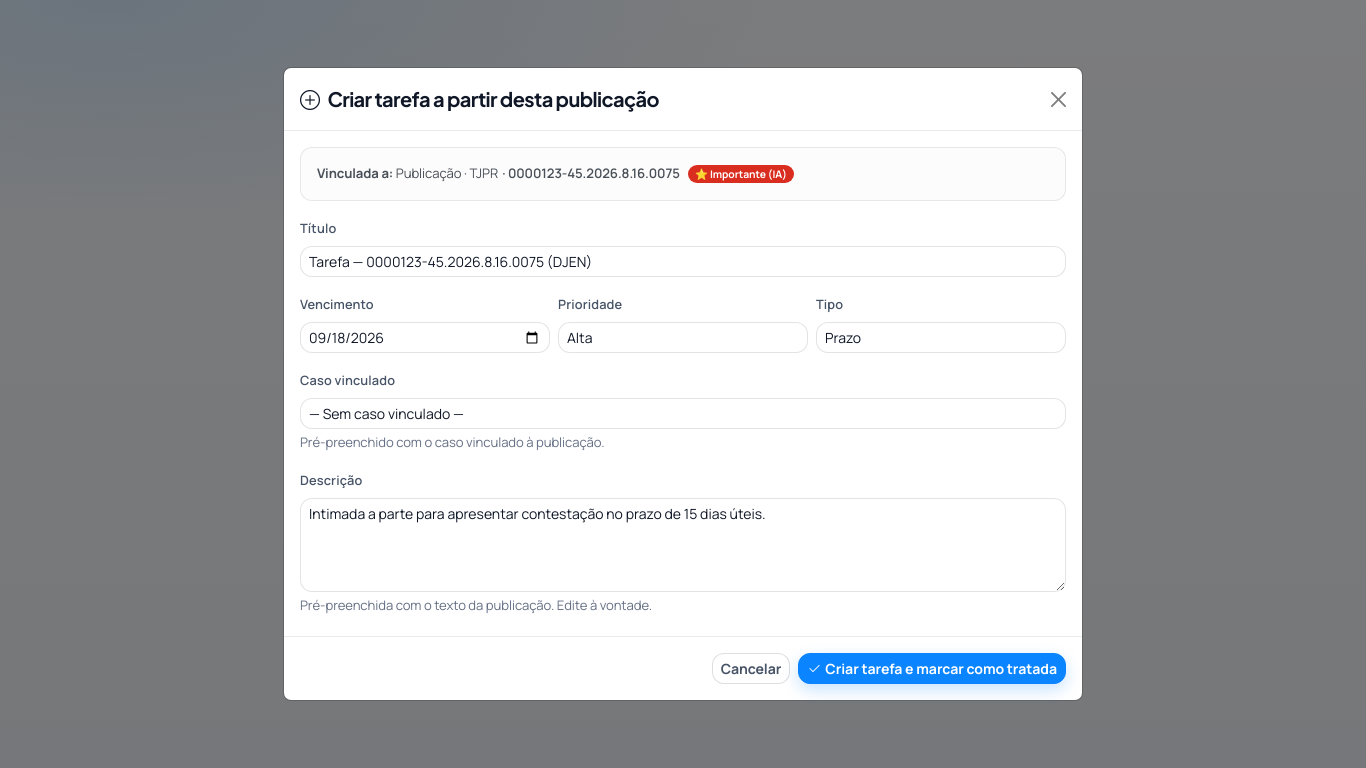
Test: ModalNovaTarefaInline › NAO submete quando titulo esta vazio
Clear the field with test id "tarefa-inline-titulo" at (683,261), box [300,246,1066,277]
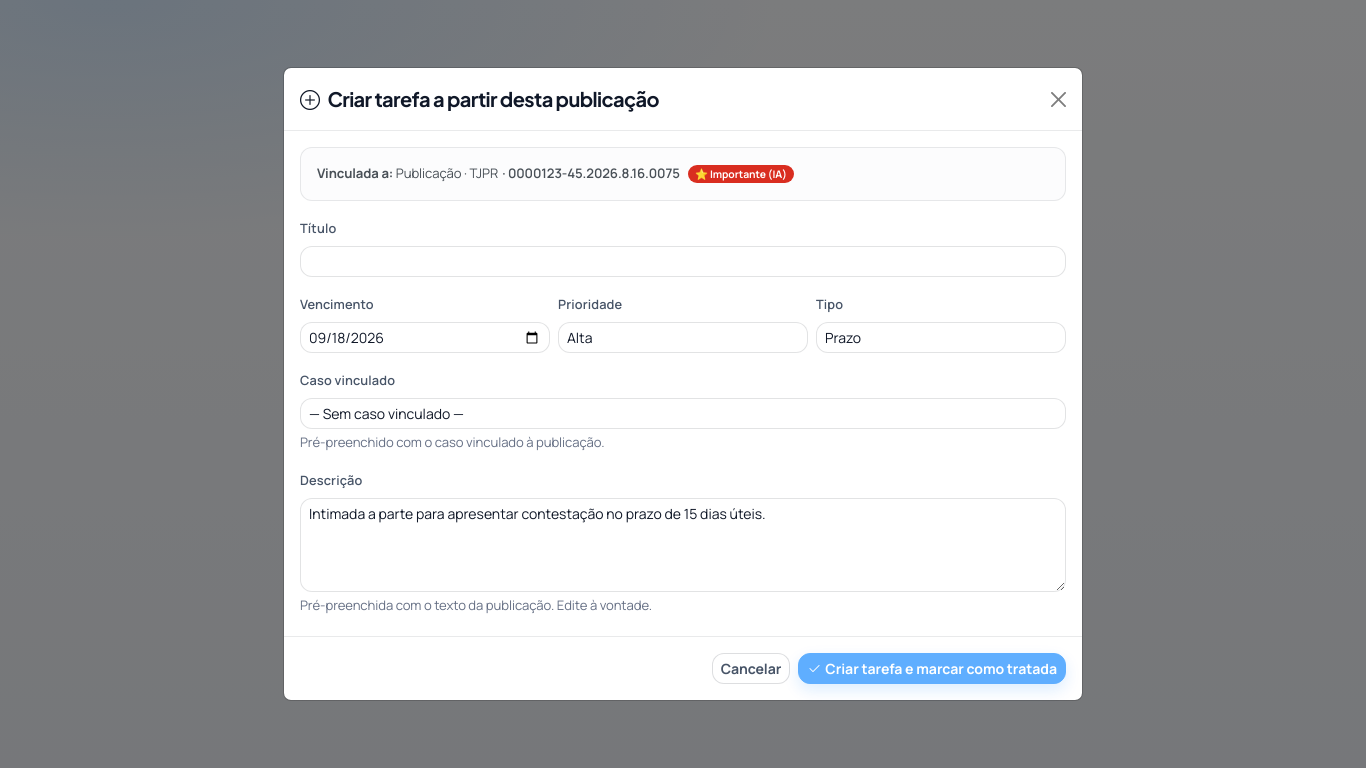
expect the button with test id "tarefa-inline-salvar" is disabled: met, box [798,653,1066,684]
